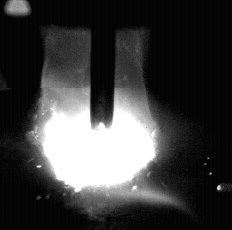arame: (91, 0, 115, 130)
poca: (37, 0, 158, 230)
